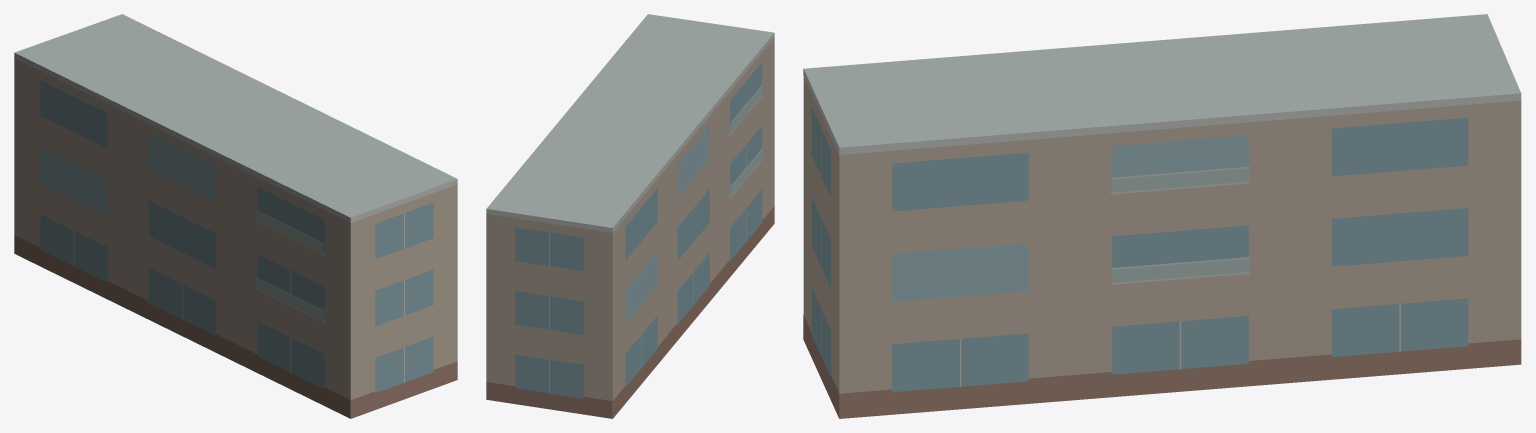
The model's file is survey-upis-32708119.glb.
The picture shows the model from 3 angles, left to right: view 1: azimuth 30°, elevation 25°; view 2: azimuth 150°, elevation 25°; view 3: azimuth 270°, elevation 25°; orthographic projection. The views are drawn at different scales.
Visible parts, largest first — view 1: survey-upis-32708119.tmp; view 2: survey-upis-32708119.tmp; view 3: survey-upis-32708119.tmp.
Boxes of the visible parts, box(x1,y1,x2,y2) form: survey-upis-32708119.tmp: box(14, 14, 457, 418); survey-upis-32708119.tmp: box(486, 14, 774, 418); survey-upis-32708119.tmp: box(803, 14, 1521, 418).
Size of the model in its own units: 9.69 by 9.15 by 21.96.
